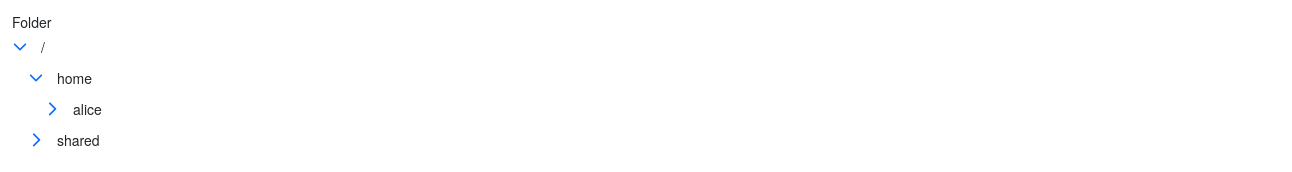
Test: FolderTreeComponent › hides the toggle from assistive technology and keeps it clickable
This screenshot has width=1292, height=172.
Click the button with class "folder-toggle" next to "shared" at (36, 140), box [28,132,44,148]
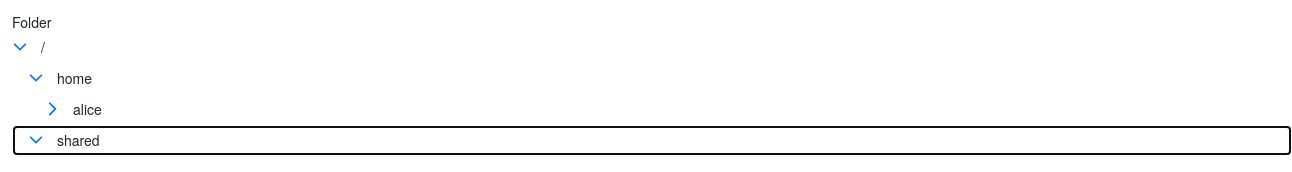
Now the list item "shared" is expanded, box [28,130,100,150]
